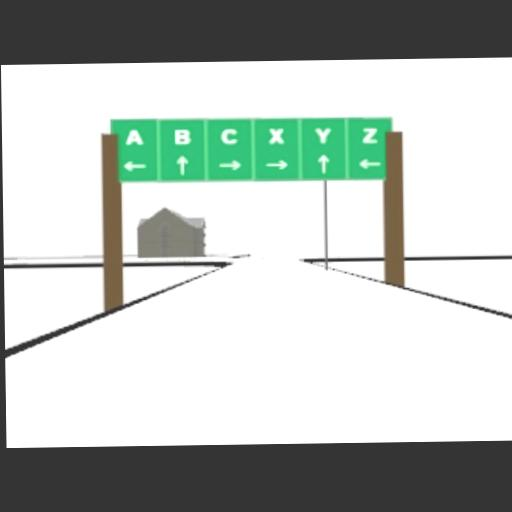A: (123, 128, 143, 144)
B: (173, 128, 191, 143)
C: (220, 127, 238, 144)
Left: (122, 159, 147, 171), (356, 156, 381, 167)
Right: (217, 158, 242, 169), (265, 158, 290, 168)
Straight: (315, 153, 330, 172), (175, 155, 188, 174)
X: (268, 126, 284, 144)
Y: (313, 126, 331, 143)
Z: (361, 125, 379, 142)
